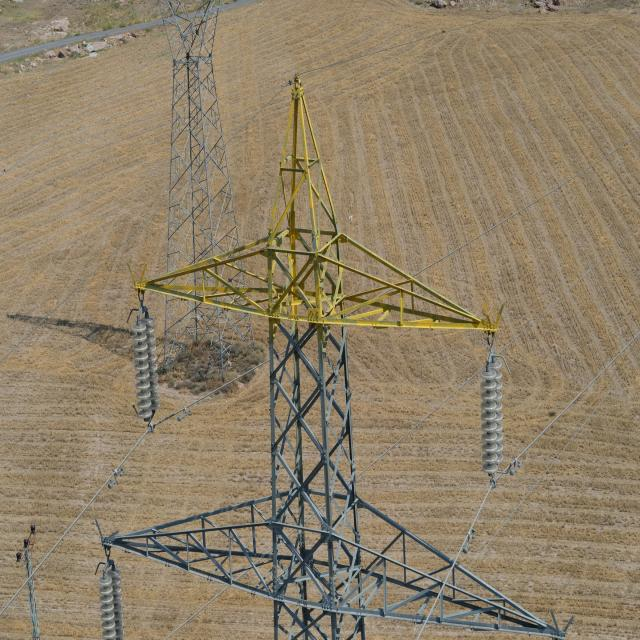direk: (254, 85, 373, 640), (155, 10, 257, 383)
